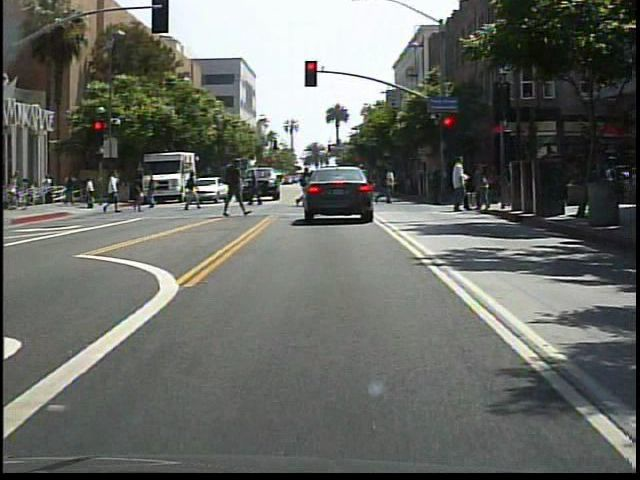person: (220, 155, 250, 224), (443, 153, 476, 213), (352, 165, 375, 218), (102, 169, 125, 215), (182, 168, 204, 213), (145, 171, 162, 212), (248, 168, 265, 207), (132, 171, 146, 216)
